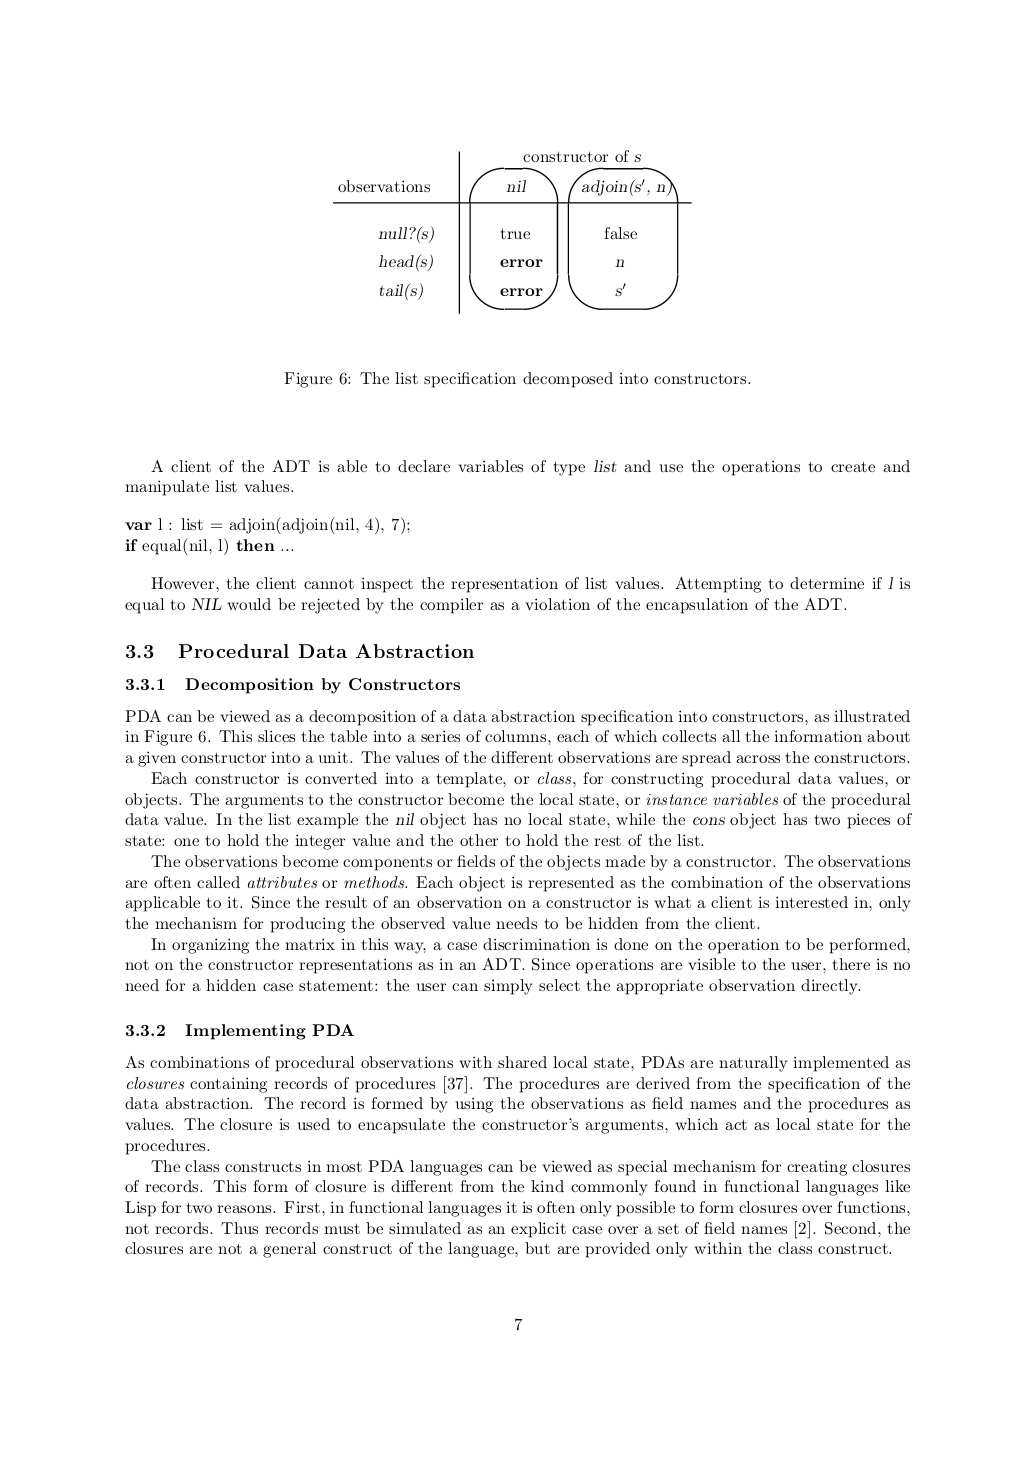figure: (333, 148, 691, 314)
